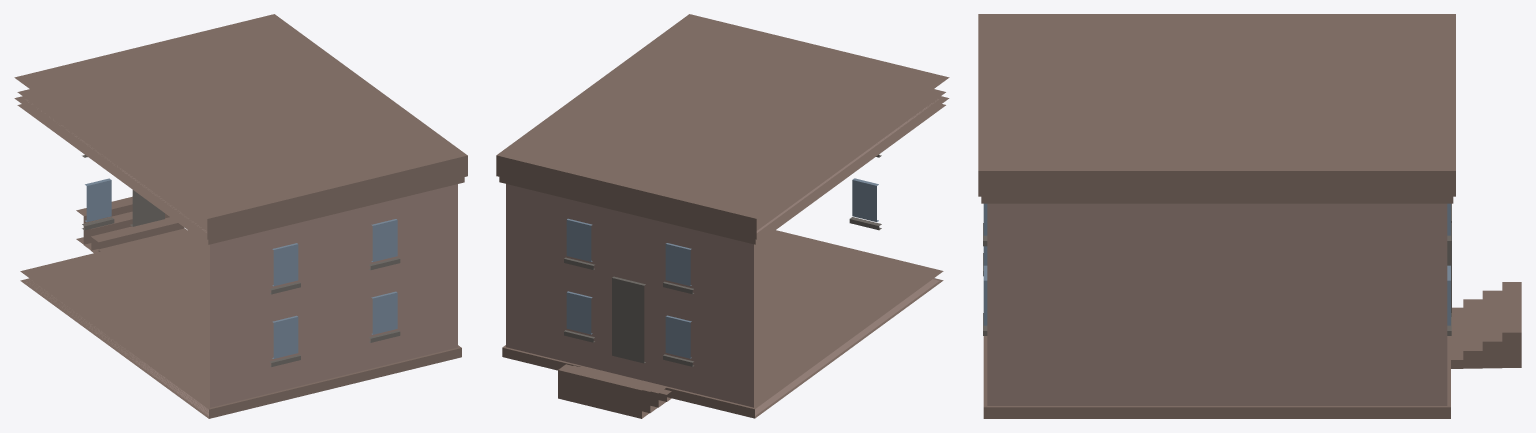
File: brick_townhouse_2.glb
3 views of the same model, side by side, from view 1: azimuth 30°, elevation 25°; view 2: azimuth 150°, elevation 25°; view 3: azimuth 270°, elevation 25° (orthographic). The views are drawn at different scales.
Parts seen in each view (by area): view 1: brick_townhouse_2; view 2: brick_townhouse_2; view 3: brick_townhouse_2.
Part boxes in pixels (bbox=[...]): brick_townhouse_2: bbox=[14, 14, 467, 418]; brick_townhouse_2: bbox=[496, 14, 949, 418]; brick_townhouse_2: bbox=[978, 14, 1521, 418].
Bounding box in the file's own units: 10.5 × 7.8 × 15.35.
